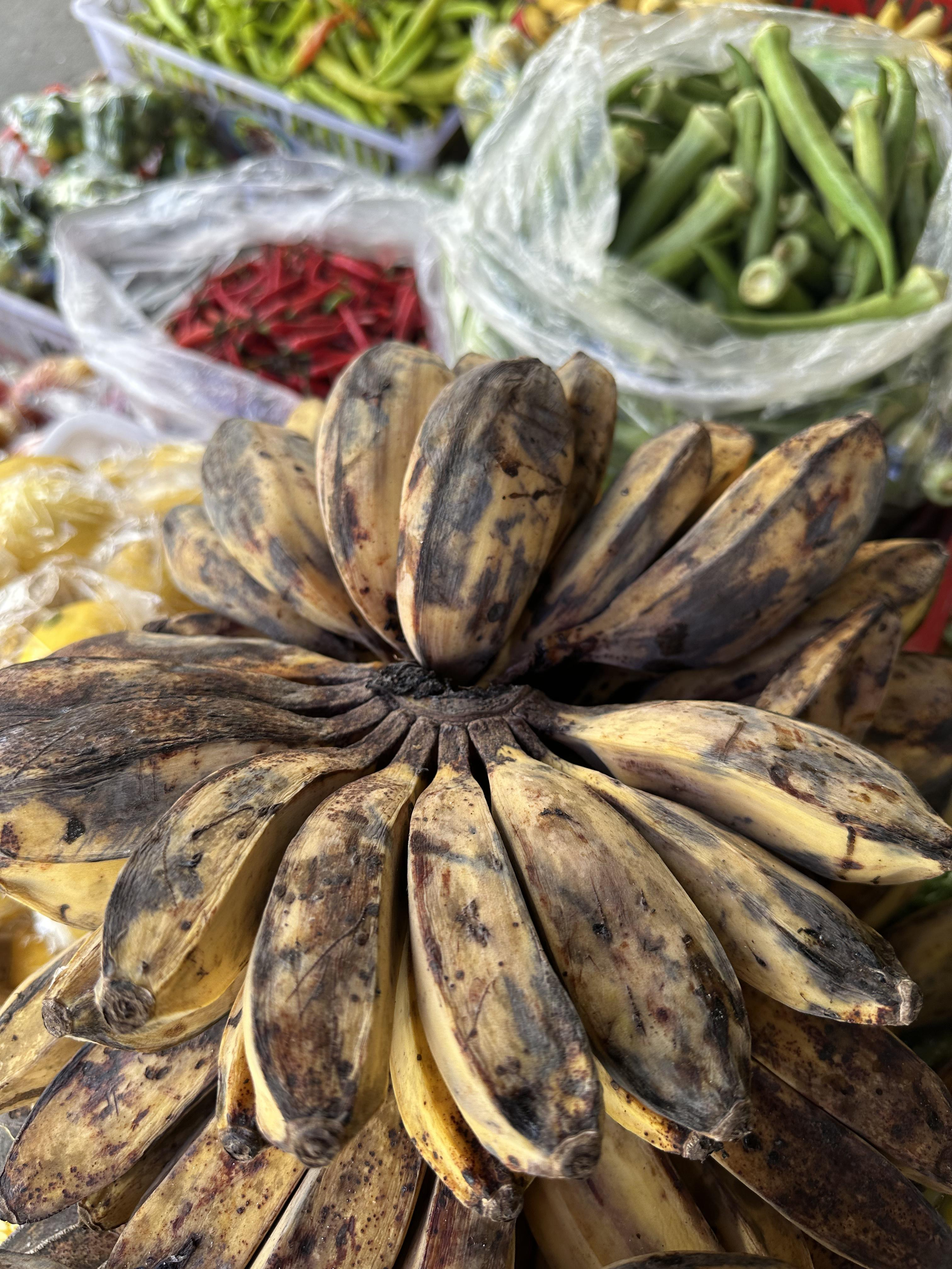ripe: (0, 633, 952, 1221), (156, 340, 951, 738), (0, 944, 516, 1269), (521, 974, 952, 1269)
